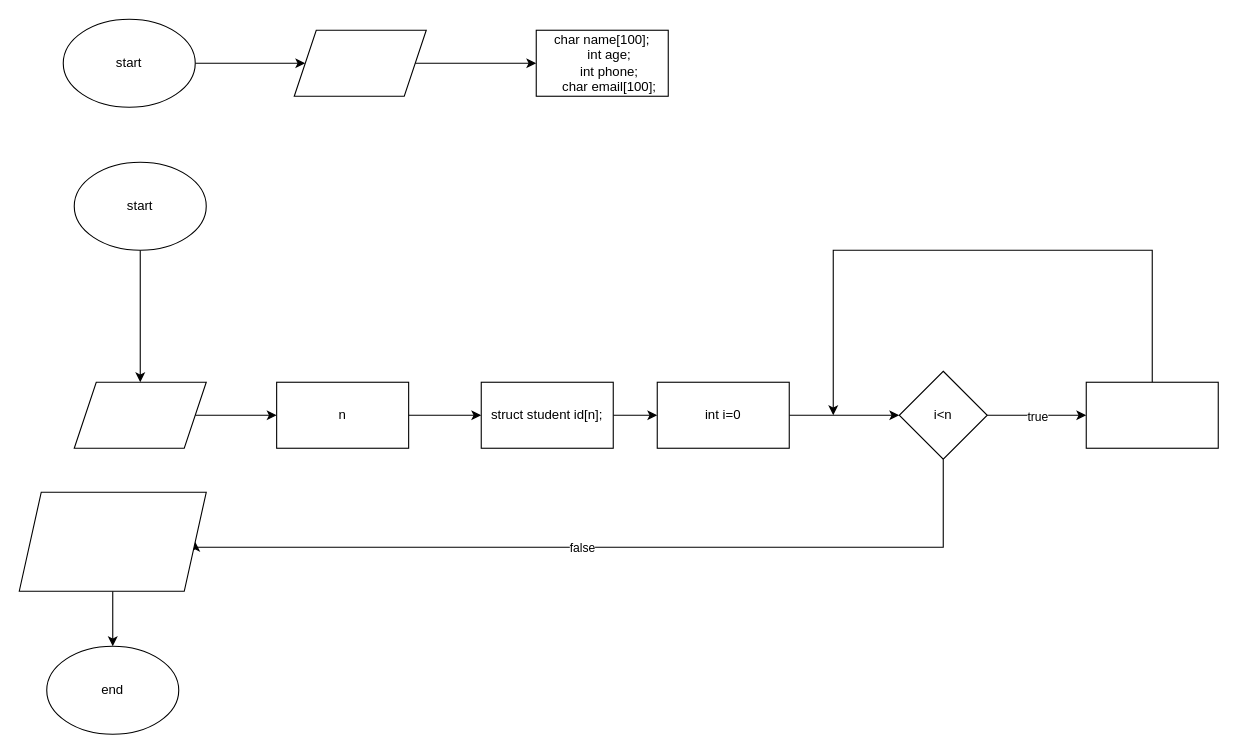
Some shapes in this 1238 by 754 pixel diagram are drawn without their labels. The box of each missing label's shape, as (x1, y1, x2, y2) in pixels:
id[i].name id[i].age id[i].phone id[i].email: (1085, 381, 1218, 448)
id[i].name, id[i].age, id[i].phone,id[i].email: (18, 491, 206, 591)
int n: (73, 381, 206, 448)
struct student: (293, 29, 426, 96)
